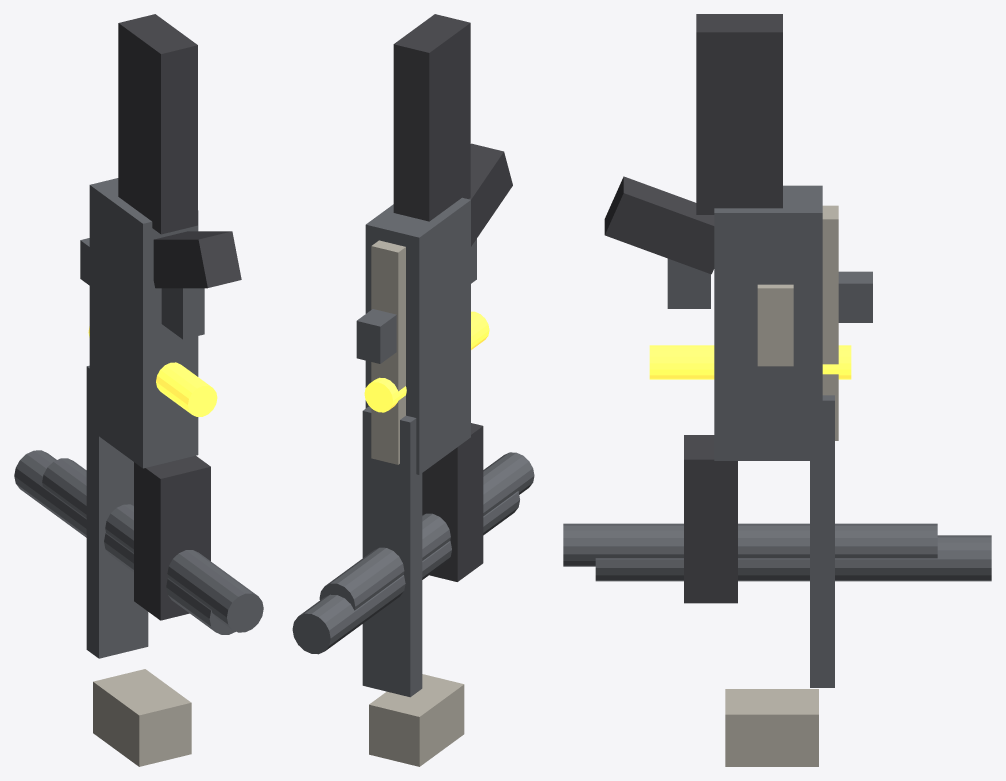
The model's file is shotgun.glb.
3 views of the same model, side by side, from view 1: azimuth 30°, elevation 25°; view 2: azimuth 150°, elevation 25°; view 3: azimuth 270°, elevation 25° (orthographic). The views are drawn at different scales.
Parts seen in each view (by area): view 1: Receiver, Stock, HeatShield, PumpForegrip, MuzzleBrake, BarrelBottom, PistolGrip, BarrelTop, PlasmaMag, TriggerGuard, ShotgunSight; view 2: Receiver, Stock, HeatShield, MuzzleBrake, PumpForegrip, BarrelBottom, TopRail, BarrelTop, PistolGrip, ShotgunSight, PlasmaMag; view 3: Receiver, Stock, BarrelBottom, BarrelTop, PumpForegrip, MuzzleBrake, PistolGrip, HeatShield, TopRail, EjectionPort, PlasmaMag, TriggerGuard (+1 smaller).
Part boxes in pixels (<box>): Receiver: <box>89,178,198,468</box>; Stock: <box>118,14,197,234</box>; HeatShield: <box>86,365,148,658</box>; PumpForegrip: <box>134,455,210,620</box>; MuzzleBrake: <box>93,669,191,766</box>; BarrelBottom: <box>42,458,263,632</box>; PistolGrip: <box>153,231,241,288</box>; BarrelTop: <box>14,450,235,634</box>; PlasmaMag: <box>88,326,217,416</box>; TriggerGuard: <box>161,288,204,339</box>; ShotgunSight: <box>80,238,89,285</box>; Receiver: <box>365,197,470,474</box>; Stock: <box>393,14,470,221</box>; HeatShield: <box>362,406,422,697</box>; MuzzleBrake: <box>369,674,464,766</box>; PumpForegrip: <box>422,423,483,581</box>; BarrelBottom: <box>319,452,534,610</box>; TopRail: <box>371,240,405,464</box>; BarrelTop: <box>292,491,519,654</box>; PistolGrip: <box>469,143,512,246</box>; ShotgunSight: <box>356,309,396,363</box>; PlasmaMag: <box>364,311,489,412</box>; Receiver: <box>714,185,822,460</box>; Stock: <box>696,14,782,214</box>; BarrelBottom: <box>563,523,937,566</box>; BarrelTop: <box>595,535,991,581</box>; PumpForegrip: <box>684,435,737,603</box>; MuzzleBrake: <box>725,689,818,766</box>; PistolGrip: <box>604,176,714,274</box>; HeatShield: <box>810,395,834,687</box>; TopRail: <box>822,205,838,440</box>; EjectionPort: <box>757,284,793,366</box>; PlasmaMag: <box>649,345,851,379</box>; TriggerGuard: <box>667,258,710,308</box>.
Size of the model in its own units: 0.101 by 1.12 by 0.595.
